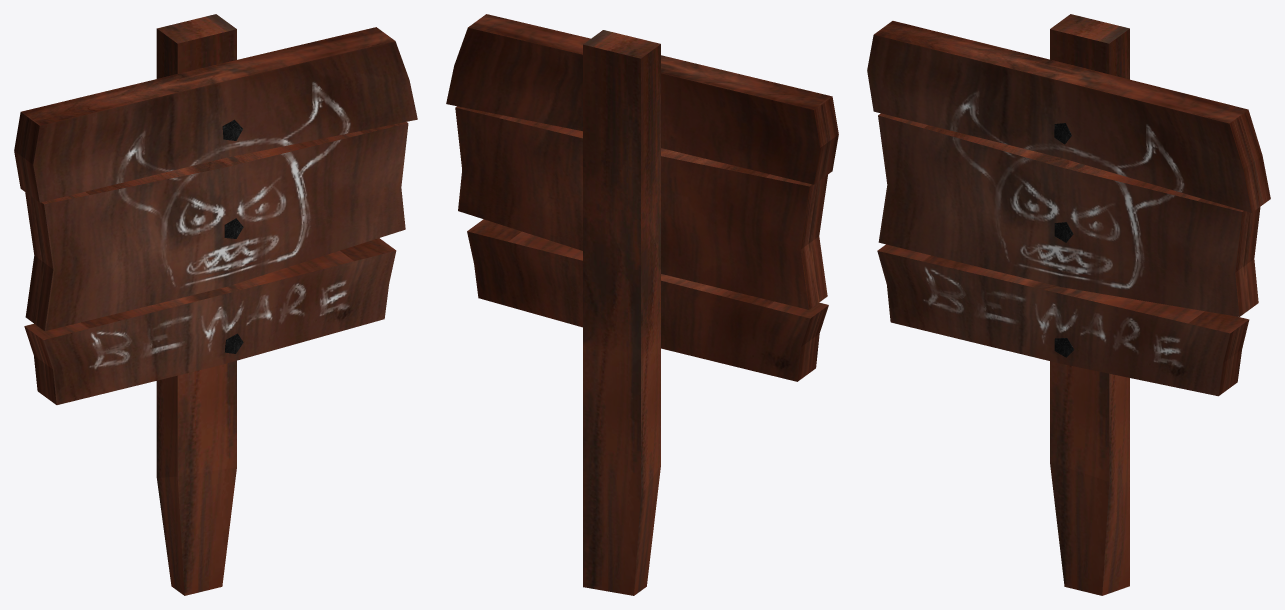
The model's file is Panneau.FBX.
3 renders of one model, left to right at view 1: azimuth 30°, elevation 25°; view 2: azimuth 150°, elevation 25°; view 3: azimuth 330°, elevation 25°, orthographic. The views are drawn at different scales.
Parts seen in each view (by area): view 1: Null, Null_1, Null_3, Cube, Disc_3; view 2: Cube, Null, Null_1, Null_3; view 3: Null, Null_1, Null_3, Cube, Disc_3.
Boxes of the visible parts, x1,y1,x2,y2 form: Null: (25,122,408,330); Null_1: (14,27,417,202); Null_3: (24,238,396,404); Cube: (156,14,236,595); Disc_3: (222,119,243,353); Cube: (583,30,660,595); Null: (455,106,827,309); Null_1: (446,14,838,184); Null_3: (467,219,828,381); Null: (878,113,1260,316); Null_1: (867,21,1270,212); Null_3: (877,244,1249,396); Cube: (1050,14,1129,595); Disc_3: (1054,123,1074,357).
Size of the model in its own units: 140 by 194 by 26.98.
5 materials, 5 textured.
